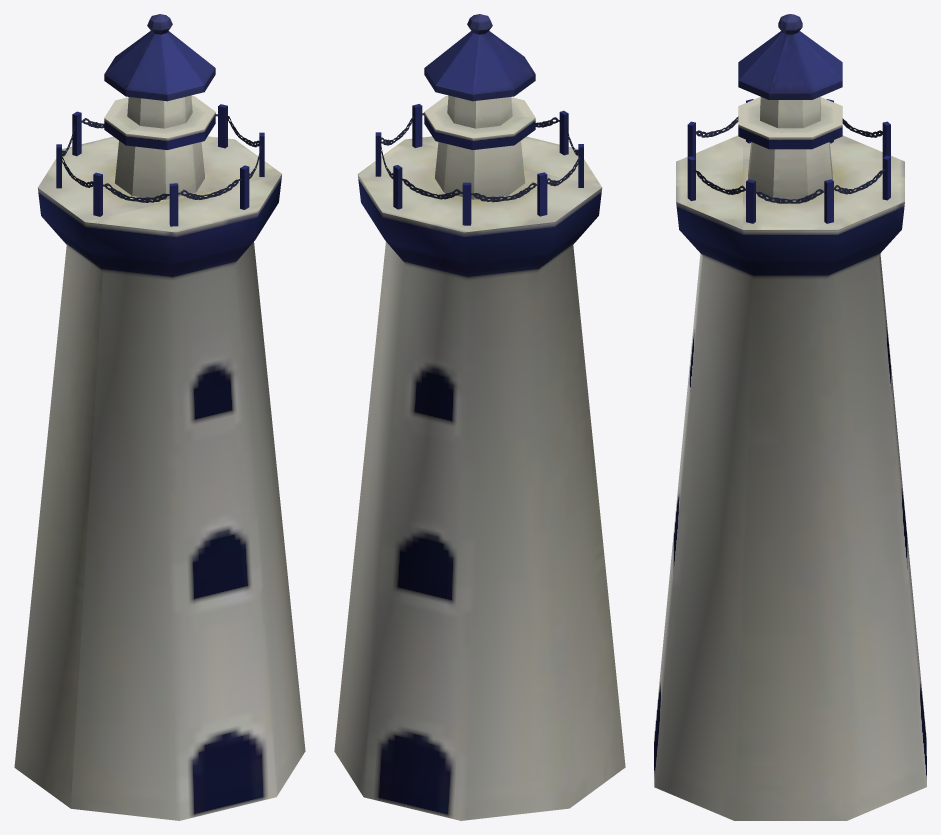
The model's file is furni_0200067_03.FBX.
3 views of the same model, side by side, from view 1: azimuth 30°, elevation 25°; view 2: azimuth 150°, elevation 25°; view 3: azimuth 270°, elevation 25° (orthographic).
Parts seen in each view (by area): view 1: furni_0200067; view 2: furni_0200067; view 3: furni_0200067.
Part boxes in pixels (bbox=[...]): furni_0200067: bbox=[14, 14, 305, 820]; furni_0200067: bbox=[334, 14, 625, 820]; furni_0200067: bbox=[654, 14, 926, 820].
Bounding box in the file's own units: 35.99 × 109 × 35.99.
